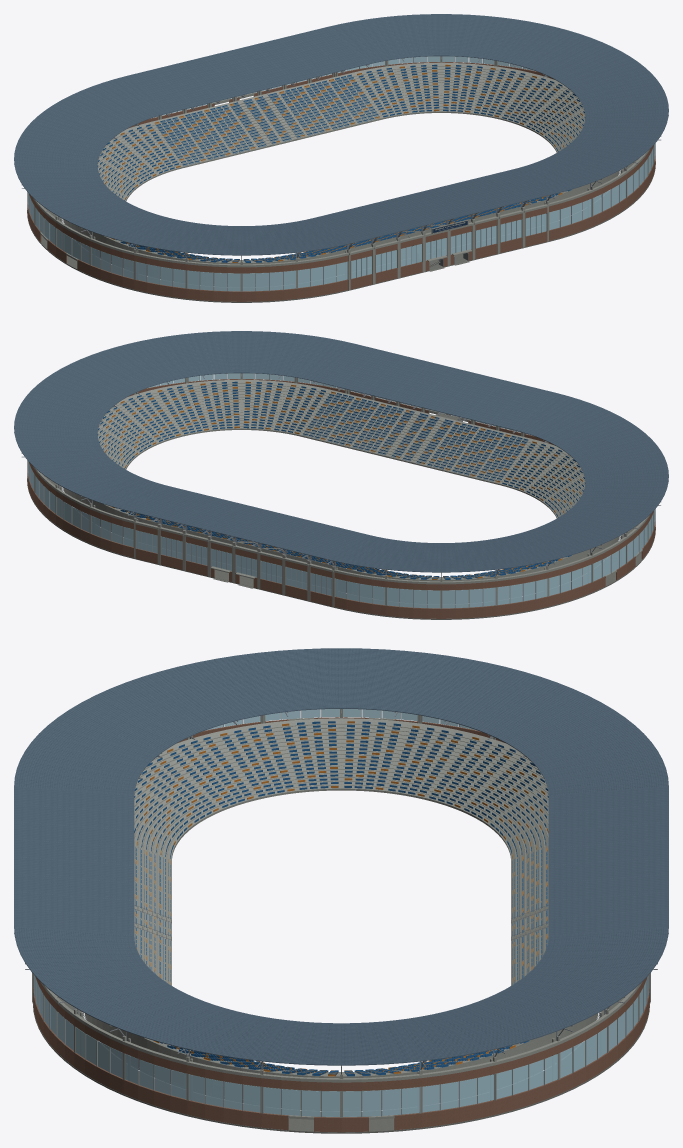
The model's file is PROJECT_Z_CityStadium_Master.glb.
The picture shows the model from 3 angles, top to bottom: view 1: azimuth 30°, elevation 25°; view 2: azimuth 150°, elevation 25°; view 3: azimuth 270°, elevation 25°; orthographic projection. The views are drawn at different scales.
Parts seen in each view (by area): view 1: BAY_EAST_10_CURVE__ROOF_SHEET, BAY_EAST_09_CURVE__ROOF_SHEET, BAY_EAST_11_CURVE__ROOF_SHEET, BAY_EAST_08_CURVE__ROOF_SHEET, BAY_EAST_07_CURVE__ROOF_SHEET, BAY_WEST_00_CURVE__ROOF_SHEET, BAY_EAST_06_CURVE_ENTRY__ROOF_SHEET, BAY_WEST_01_CURVE__ROOF_SHEET, BAY_EAST_05_CURVE_ENTRY__ROOF_SHEET, BAY_WEST_02_CURVE__ROOF_SHEET, BAY_EAST_04_CURVE__ROOF_SHEET, BAY_WEST_03_CURVE__ROOF_SHEET (+89 smaller); view 2: BAY_EAST_01_CURVE__ROOF_SHEET, BAY_EAST_02_CURVE__ROOF_SHEET, BAY_EAST_00_CURVE__ROOF_SHEET, BAY_EAST_03_CURVE__ROOF_SHEET, BAY_EAST_04_CURVE__ROOF_SHEET, BAY_WEST_11_CURVE__ROOF_SHEET, BAY_EAST_05_CURVE_ENTRY__ROOF_SHEET, BAY_WEST_10_CURVE__ROOF_SHEET, BAY_EAST_06_CURVE_ENTRY__ROOF_SHEET, BAY_WEST_09_CURVE__ROOF_SHEET, BAY_EAST_07_CURVE__ROOF_SHEET, BAY_WEST_08_CURVE__ROOF_SHEET (+89 smaller); view 3: BAY_WEST_05_CURVE_ENTRY__ROOF_SHEET, BAY_WEST_06_CURVE_ENTRY__ROOF_SHEET, BAY_WEST_04_CURVE__ROOF_SHEET, BAY_WEST_07_CURVE__ROOF_SHEET, BAY_WEST_03_CURVE__ROOF_SHEET, BAY_WEST_08_CURVE__ROOF_SHEET, BAY_WEST_02_CURVE__ROOF_SHEET, BAY_WEST_09_CURVE__ROOF_SHEET, BAY_WEST_01_CURVE__ROOF_SHEET, BAY_WEST_10_CURVE__ROOF_SHEET, BAY_WEST_00_CURVE__ROOF_SHEET, BAY_WEST_11_CURVE__ROOF_SHEET (+76 smaller).
Boxes of the visible parts, box(x1,y1,x2,y2) form: BAY_EAST_10_CURVE__ROOF_SHEET: box(382, 14, 441, 58); BAY_EAST_09_CURVE__ROOF_SHEET: box(441, 14, 499, 58); BAY_EAST_11_CURVE__ROOF_SHEET: box(328, 17, 403, 64); BAY_EAST_08_CURVE__ROOF_SHEET: box(478, 17, 554, 64); BAY_EAST_07_CURVE__ROOF_SHEET: box(513, 27, 601, 73); BAY_WEST_00_CURVE__ROOF_SHEET: box(81, 75, 169, 122); BAY_EAST_06_CURVE_ENTRY__ROOF_SHEET: box(543, 42, 637, 86); BAY_WEST_01_CURVE__ROOF_SHEET: box(45, 91, 139, 134); BAY_EAST_05_CURVE_ENTRY__ROOF_SHEET: box(566, 62, 660, 100); BAY_WEST_02_CURVE__ROOF_SHEET: box(22, 111, 116, 149); BAY_EAST_04_CURVE__ROOF_SHEET: box(580, 85, 668, 116); BAY_WEST_03_CURVE__ROOF_SHEET: box(14, 134, 102, 165); BAY_EAST_01_CURVE__ROOF_SHEET: box(241, 331, 300, 375); BAY_EAST_02_CURVE__ROOF_SHEET: box(183, 331, 241, 375); BAY_EAST_00_CURVE__ROOF_SHEET: box(279, 334, 354, 381); BAY_EAST_03_CURVE__ROOF_SHEET: box(128, 334, 204, 381); BAY_EAST_04_CURVE__ROOF_SHEET: box(81, 344, 169, 390); BAY_WEST_11_CURVE__ROOF_SHEET: box(513, 392, 601, 439); BAY_EAST_05_CURVE_ENTRY__ROOF_SHEET: box(45, 359, 139, 403); BAY_WEST_10_CURVE__ROOF_SHEET: box(543, 408, 637, 451); BAY_EAST_06_CURVE_ENTRY__ROOF_SHEET: box(22, 379, 116, 417); BAY_WEST_09_CURVE__ROOF_SHEET: box(566, 428, 660, 466); BAY_EAST_07_CURVE__ROOF_SHEET: box(14, 402, 102, 433); BAY_WEST_08_CURVE__ROOF_SHEET: box(580, 451, 668, 482); BAY_WEST_05_CURVE_ENTRY__ROOF_SHEET: box(341, 648, 425, 711); BAY_WEST_06_CURVE_ENTRY__ROOF_SHEET: box(257, 648, 341, 711); BAY_WEST_04_CURVE__ROOF_SHEET: box(395, 653, 504, 720); BAY_WEST_07_CURVE__ROOF_SHEET: box(178, 653, 287, 720); BAY_WEST_03_CURVE__ROOF_SHEET: box(445, 666, 572, 734); BAY_WEST_08_CURVE__ROOF_SHEET: box(110, 666, 237, 734); BAY_WEST_02_CURVE__ROOF_SHEET: box(488, 689, 624, 752); BAY_WEST_09_CURVE__ROOF_SHEET: box(58, 689, 194, 752); BAY_WEST_01_CURVE__ROOF_SHEET: box(521, 717, 657, 773); BAY_WEST_10_CURVE__ROOF_SHEET: box(25, 717, 161, 773); BAY_WEST_00_CURVE__ROOF_SHEET: box(541, 751, 668, 795); BAY_WEST_11_CURVE__ROOF_SHEET: box(14, 751, 141, 795).
Bounding box in the file's own units: 250 × 21.45 × 166.
Materials: 10 (8 with a texture image).
